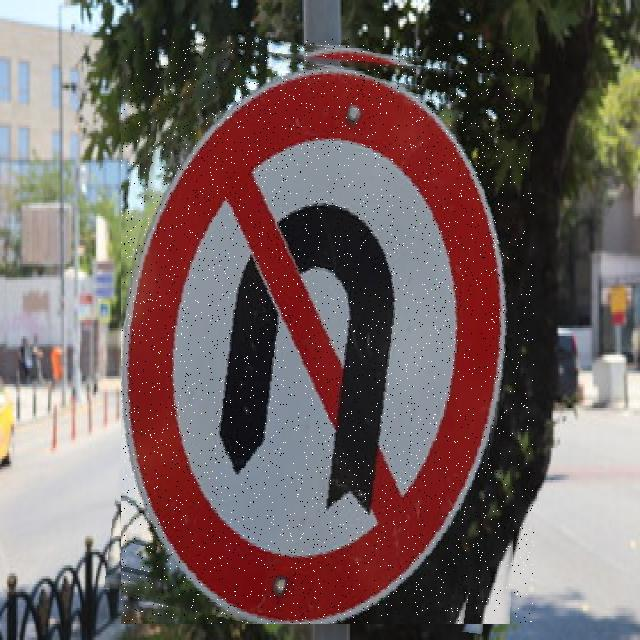no u turn: (121, 38, 534, 624)
